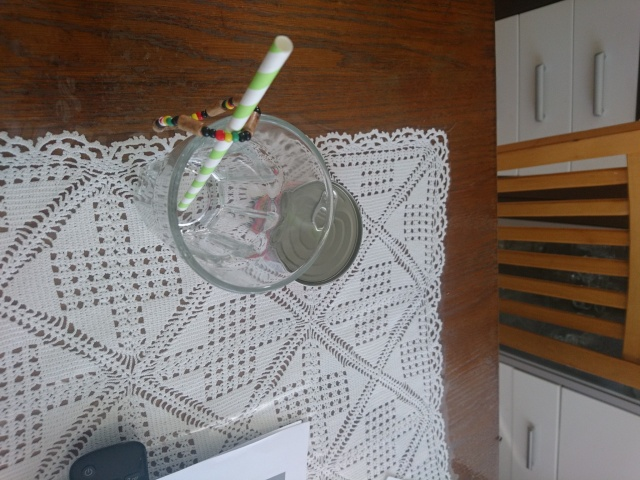Giana Tuna Salad Mexico 185g: (241, 174, 365, 288)
